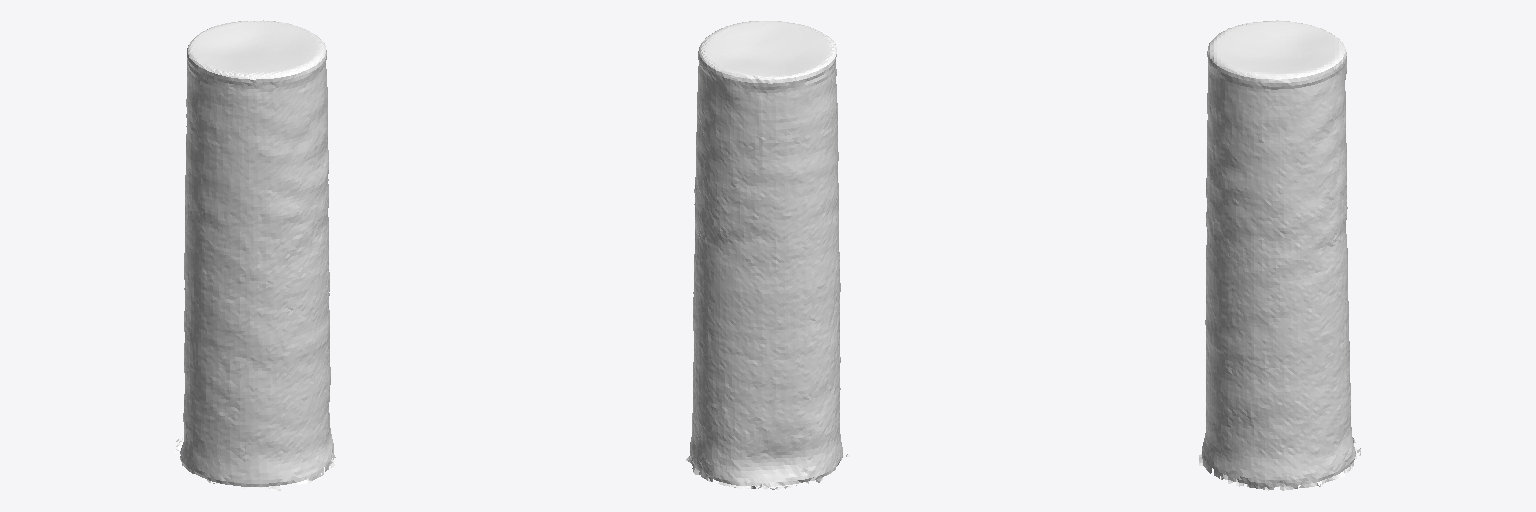
The robot description file, URDF, robot "011_banana":
<?xml version='1.0' encoding='ASCII'?>
<robot name="011_banana">
    <link name="object_011_banana_base_link">
        <visual>
            <origin rpy="0 0 0" xyz="0 0 0"/>
            <geometry>
                <mesh filename="textured_simple.obj" scale="1.0 1.0 1.0"/>
            </geometry>
            <material name="texture">
                <color rgba="1.0 1.0 1.0 1.0" />
            </material>
        </visual>
        <collision>
            <origin rpy="0 0 0" xyz="0 0 0"/>
            <geometry>
                <mesh filename="textured_simple.obj" scale="1.0 1.0 1.0"/>
            </geometry>
        </collision>   
        <inertial>
            <mass value="0.062"/>
            <inertia ixx="0.00022571771443348476" ixy="0.0" ixz="0.0" iyy="0.00017140544255496283" iyz="0.0" izz="6.82081480668325e-05" />
        </inertial>
    </link>
</robot>

--- Facts derived from the render (not from the file) ---
Views: 3 orthographic renders of the robot side by side, from view 1: azimuth 30°, elevation 25°; view 2: azimuth 150°, elevation 25°; view 3: azimuth 270°, elevation 25°.
Robot: 011_banana — 1 links, 0 joints (none); root link object_011_banana_base_link; default pose: all joints at 0.
Links seen in each view (by area): view 1: object_011_banana_base_link; view 2: object_011_banana_base_link; view 3: object_011_banana_base_link.
Link boxes in pixels (x1=…): object_011_banana_base_link: x1=175, y1=20, x2=336, y2=490; object_011_banana_base_link: x1=686, y1=21, x2=849, y2=490; object_011_banana_base_link: x1=1199, y1=20, x2=1360, y2=490.
Size in the robot's own frame: 0.0835 by 0.0861 by 0.2406 metres.
1 mesh visuals loaded from 1 distinct referenced files (1 OBJ).